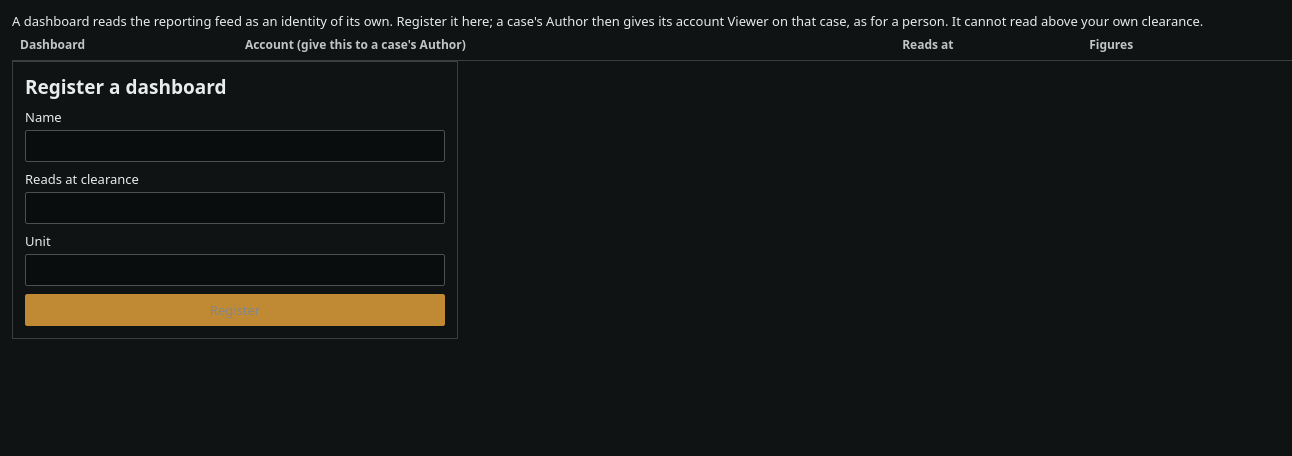
Test case: Admin › Dashboards on Entra ID sign-in › on Keycloak asks for no application id and shows the secret once, as before
In the field named "Dashboard name": (235, 146) top-left (25, 130), bottom-right (445, 162), type "Board"
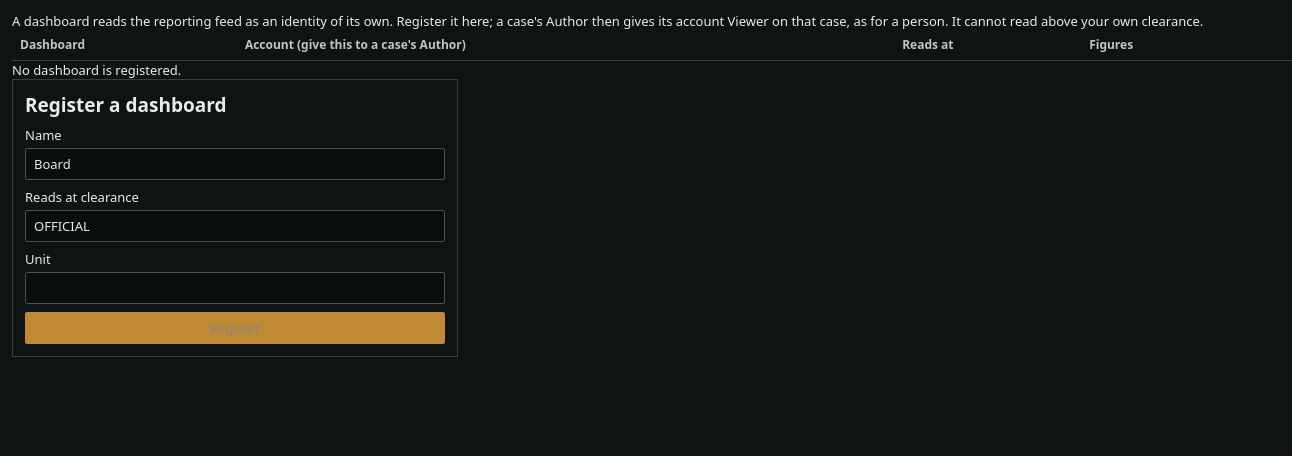
In the field named "Dashboard unit": (235, 288) top-left (25, 272), bottom-right (445, 304), type "unit-2"
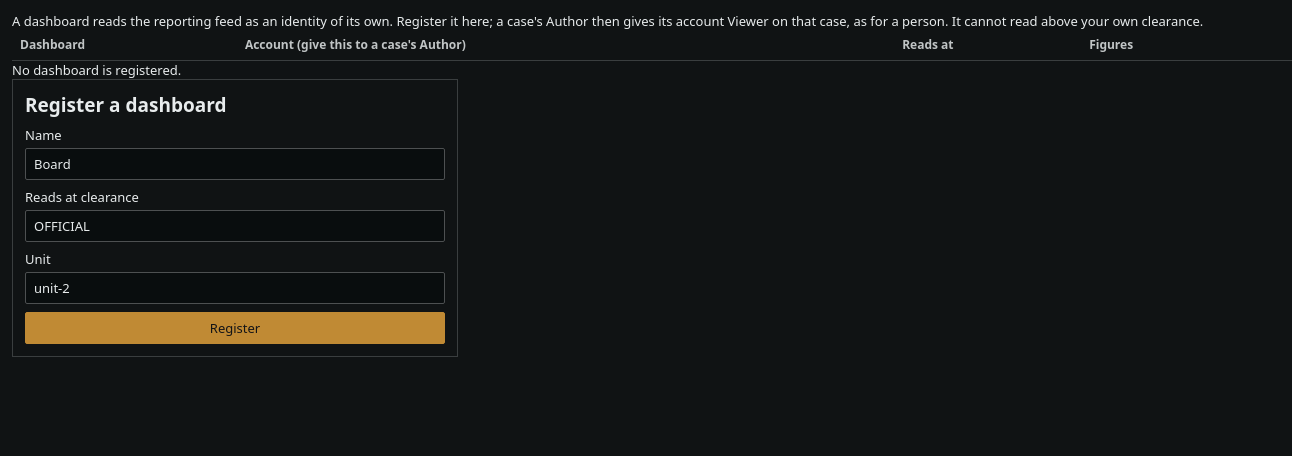
Result: the dropdown named "Dashboard reads at clearance" shows "OFFICIAL" at top-left (25, 210), bottom-right (445, 242)
Click the button "Register": (235, 328) top-left (25, 312), bottom-right (445, 344)
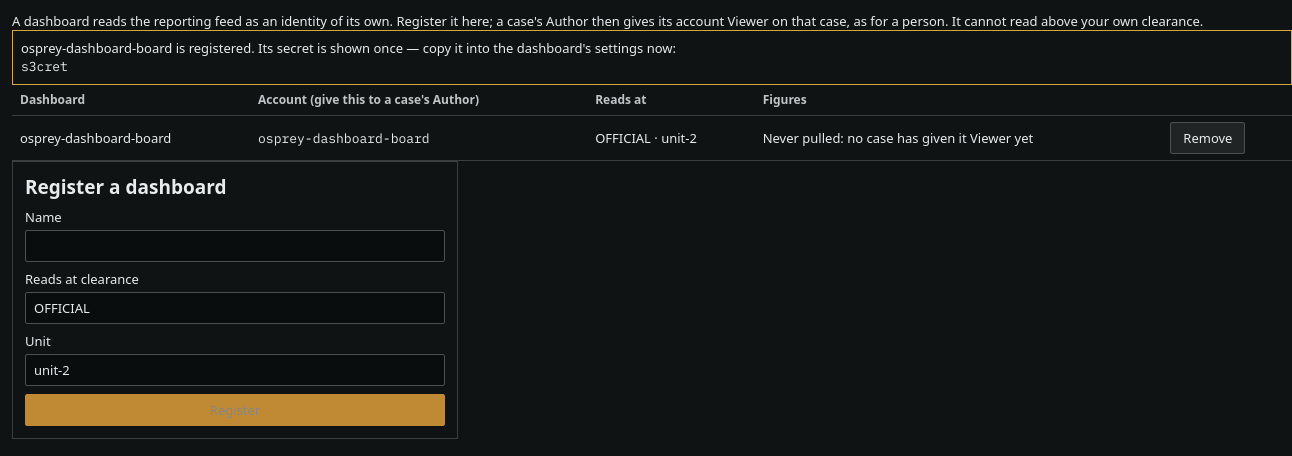
Result: the message shows "shown once" at top-left (21, 39), bottom-right (676, 57)
